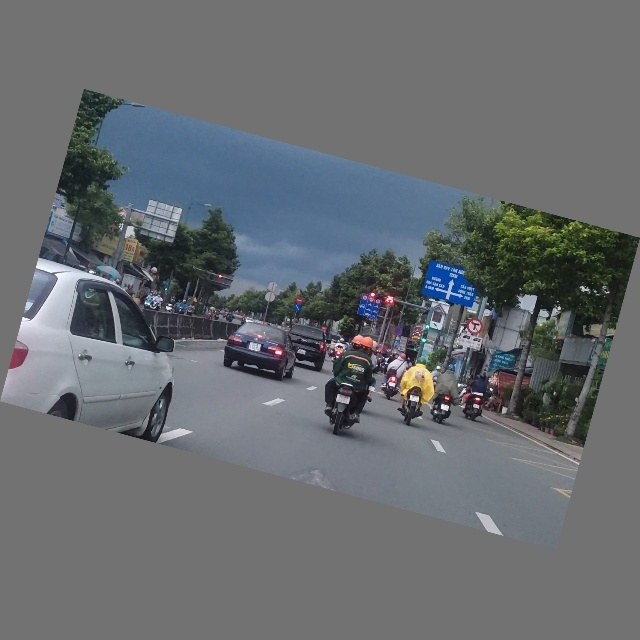P.102: (295, 297, 304, 306)
P.131a: (393, 327, 403, 336)
P.137: (465, 318, 484, 337)
R.302a: (293, 305, 302, 312)
R.415a: (357, 300, 381, 320)
